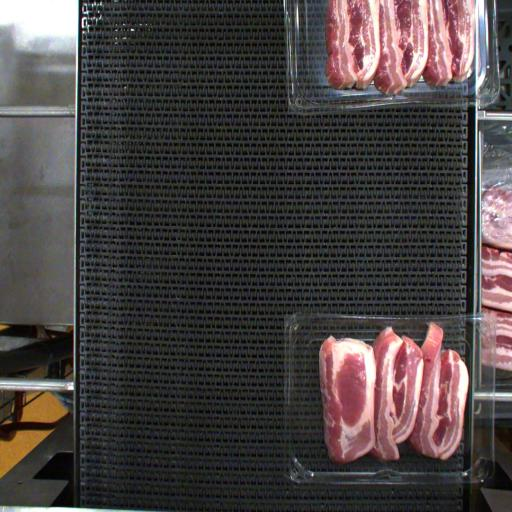twisted-meat: (412, 321, 448, 455)
